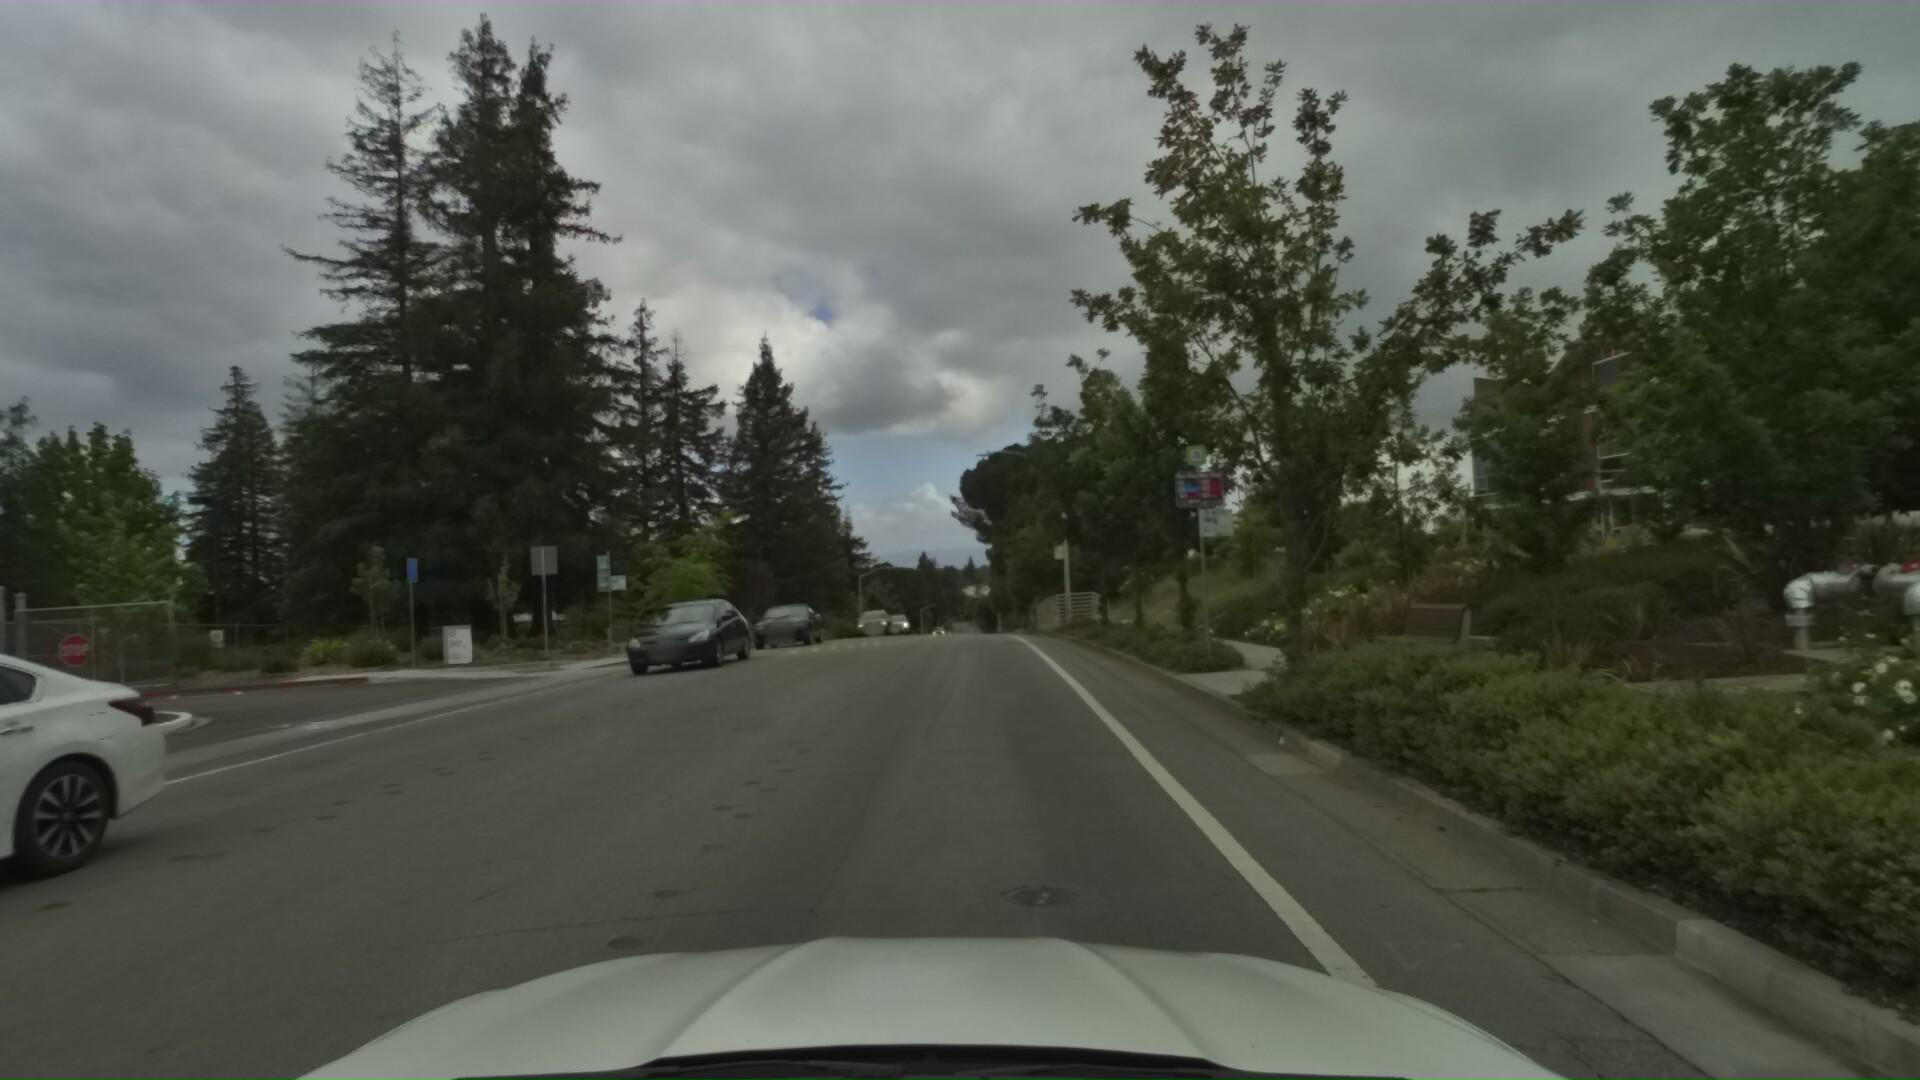car: (603, 592, 748, 680), (746, 593, 825, 649), (851, 597, 889, 632), (884, 603, 913, 630)
